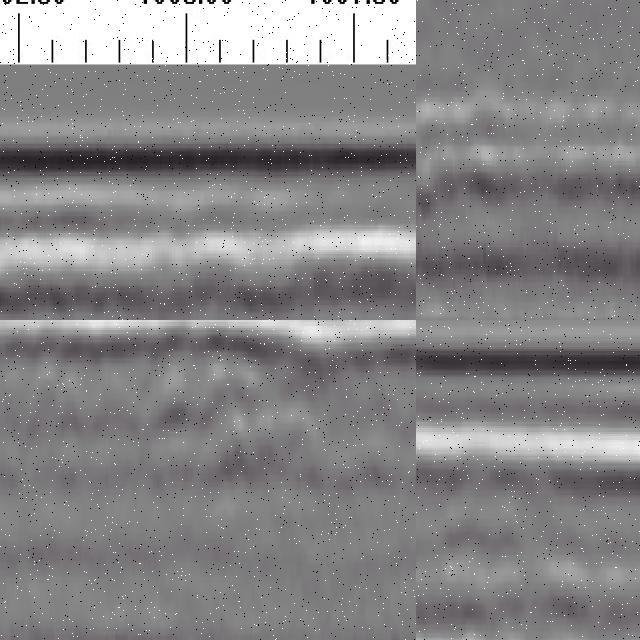crack: (1, 321, 8, 547)
loose: (129, 325, 311, 482)
